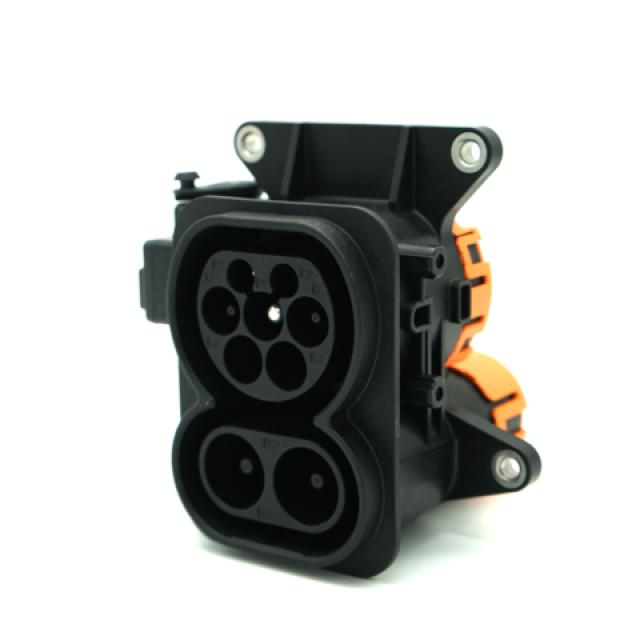inlet: (197, 251, 334, 402)
inlet-above-left: (227, 259, 254, 294)
inlet-above-right: (270, 263, 298, 298)
inlet-below-left: (223, 335, 262, 384)
inlet-below-right: (266, 341, 306, 391)
inlet-circle: (243, 292, 283, 341)
inlet-circle-left: (202, 286, 240, 335)
inlet-circle-right: (287, 296, 329, 347)
inlet-minus: (273, 446, 338, 525)
inlet-plus: (204, 433, 265, 509)
